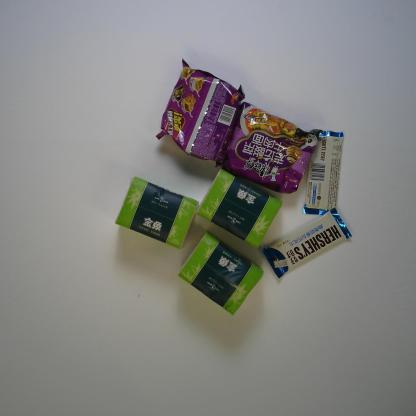Chocolate: (261, 207, 352, 279), (302, 127, 344, 216)
Instant Noodles: (154, 59, 245, 170), (222, 101, 318, 194)
Tissue: (178, 232, 264, 317), (196, 168, 284, 249), (114, 177, 200, 249)
